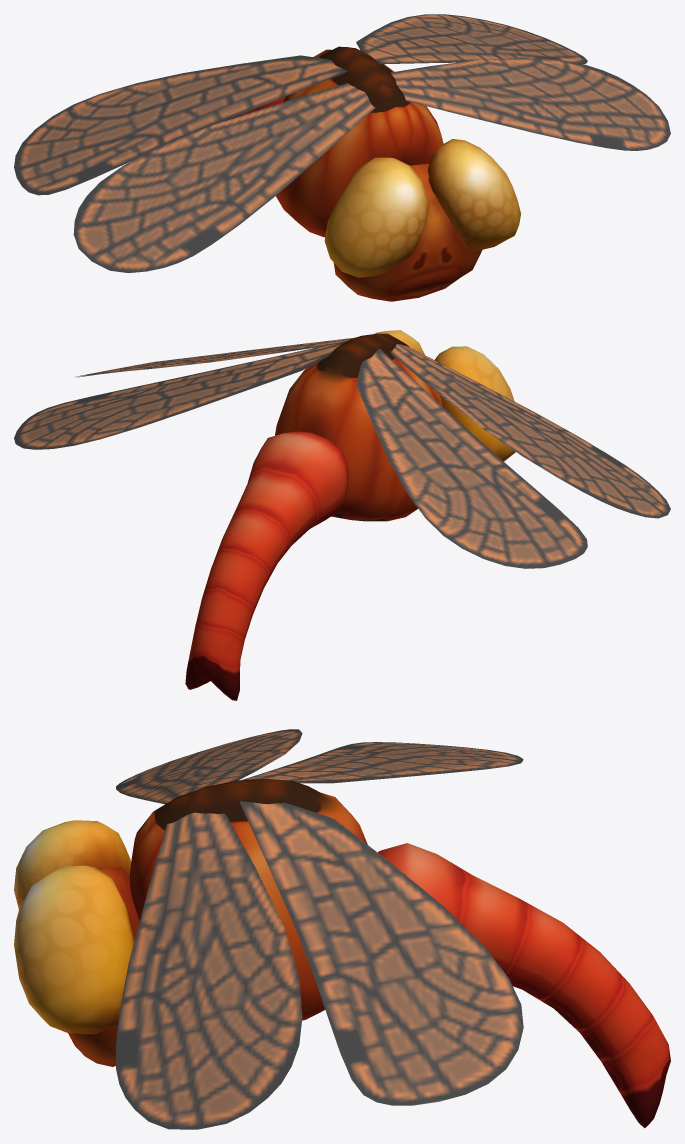
The model's file is ENV2010035.fbx.
3 renders of one model, top to bottom at view 1: azimuth 30°, elevation 25°; view 2: azimuth 150°, elevation 25°; view 3: azimuth 270°, elevation 25°, orthographic. The views are drawn at different scales.
Parts seen in each view (by area): view 1: smENV2010035; view 2: smENV2010035; view 3: smENV2010035.
Boxes of the visible parts, x1,y1,x2,y2 form: smENV2010035: [14, 14, 670, 301]; smENV2010035: [14, 330, 670, 700]; smENV2010035: [14, 729, 670, 1129].
Bounding box in the file's own units: 18.8 × 7.67 × 13.74.
1 material, 1 textured.
